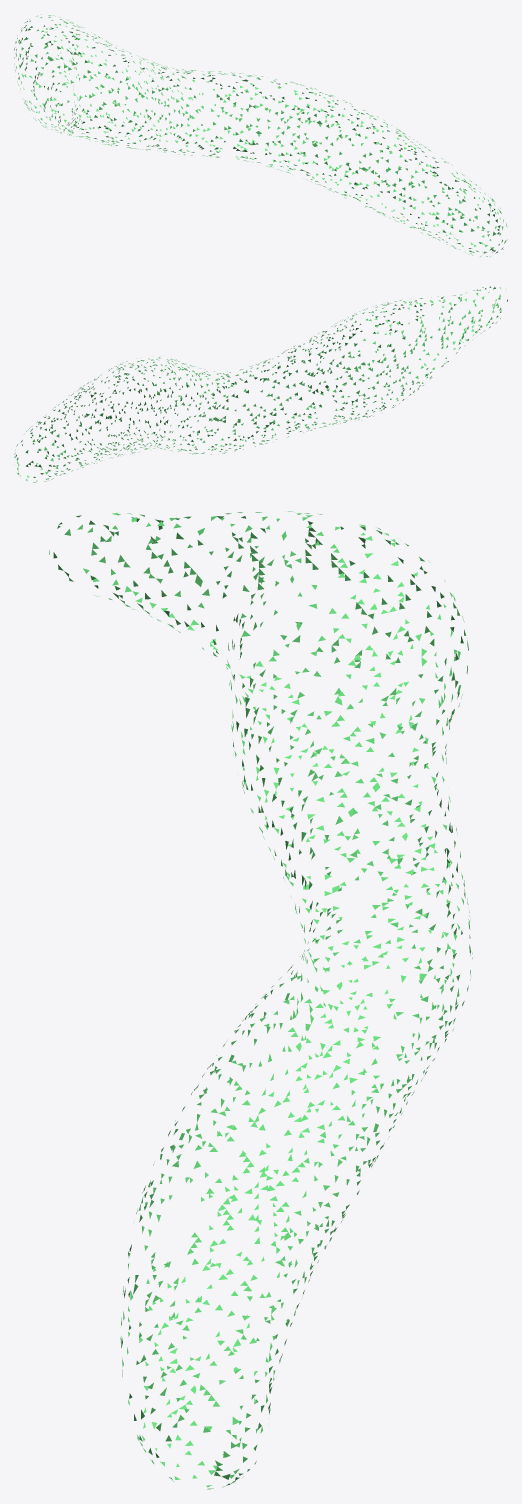
Rendered from morph_019.glb.
The picture shows the model from 3 angles, top to bottom: view 1: azimuth 30°, elevation 25°; view 2: azimuth 150°, elevation 25°; view 3: azimuth 270°, elevation 25°; orthographic projection. The views are drawn at different scales.
Size of the model in its own units: 95.95 by 59.31 by 38.87.
